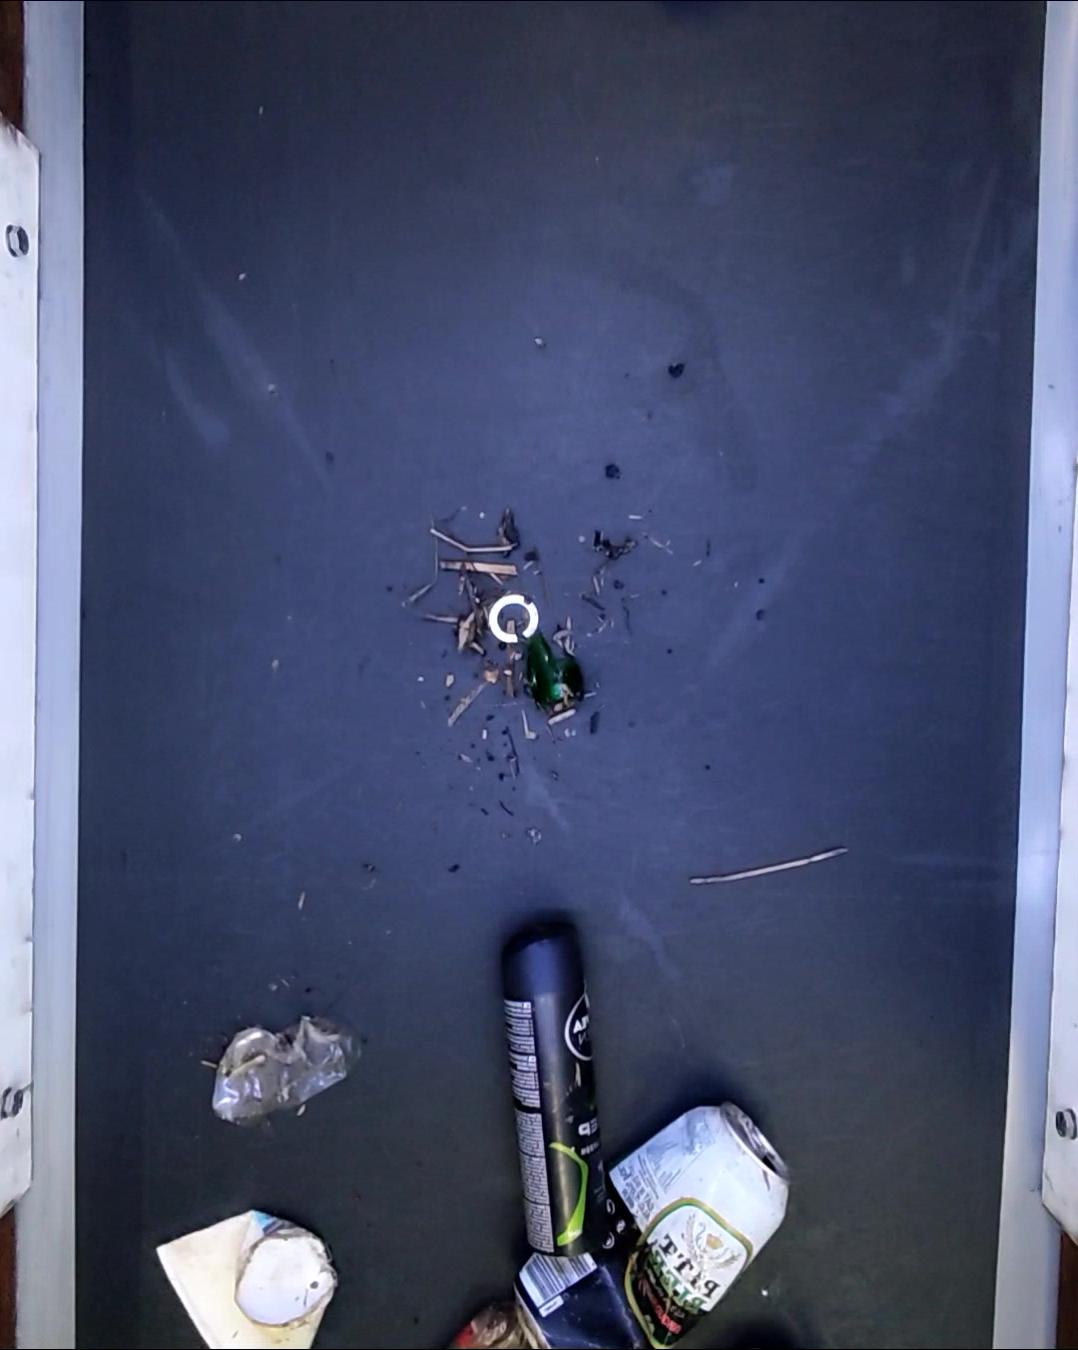Drankblikjes: (517, 1105, 791, 1350)
Plastic folies of stukken daarvan 2.5- 50 cm: (212, 1013, 363, 1129)
